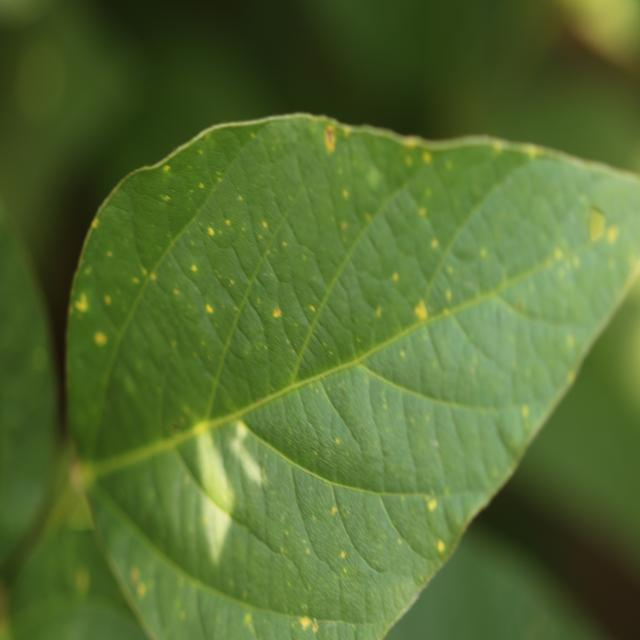Soybean: (14, 113, 640, 640)
downey_mildew: (448, 171, 589, 305), (273, 481, 385, 622), (392, 443, 518, 565), (197, 160, 282, 282), (402, 144, 510, 236), (185, 246, 262, 366), (357, 541, 458, 632), (121, 160, 205, 261), (272, 377, 357, 474), (353, 201, 429, 304), (397, 260, 467, 370), (433, 308, 527, 382), (603, 248, 640, 411), (82, 247, 148, 334), (149, 544, 205, 638), (68, 365, 108, 451), (228, 431, 263, 492), (200, 490, 231, 558), (176, 411, 225, 452), (294, 115, 343, 143), (499, 422, 530, 459), (119, 371, 141, 410), (290, 613, 320, 638), (68, 463, 87, 496), (31, 344, 47, 369), (366, 166, 382, 189), (76, 570, 90, 593), (74, 293, 89, 312), (334, 376, 349, 390), (94, 331, 107, 345), (130, 566, 140, 582), (525, 146, 538, 158), (404, 137, 418, 148), (243, 612, 253, 626), (137, 582, 146, 597), (493, 140, 504, 151), (427, 493, 436, 506), (170, 422, 180, 433), (567, 371, 575, 384), (437, 540, 445, 553), (430, 238, 438, 249), (424, 152, 432, 163), (205, 303, 213, 314), (419, 207, 427, 217), (431, 438, 439, 448), (375, 307, 382, 317), (104, 295, 111, 305), (342, 189, 349, 199), (92, 219, 99, 228), (341, 222, 348, 231), (141, 268, 148, 276), (132, 276, 139, 284), (203, 134, 210, 142), (150, 272, 156, 281), (400, 349, 406, 358), (163, 195, 170, 202), (163, 165, 170, 172), (198, 182, 205, 189), (302, 602, 308, 610), (217, 176, 222, 183), (280, 547, 285, 554), (238, 195, 243, 202), (305, 547, 310, 554), (398, 537, 403, 544), (328, 350, 333, 356)
